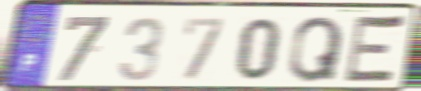0: (234, 16, 285, 82)
3: (117, 16, 165, 83)
7: (55, 15, 112, 83), (180, 15, 226, 83)
E: (340, 12, 409, 87)
Q: (287, 14, 346, 85)
